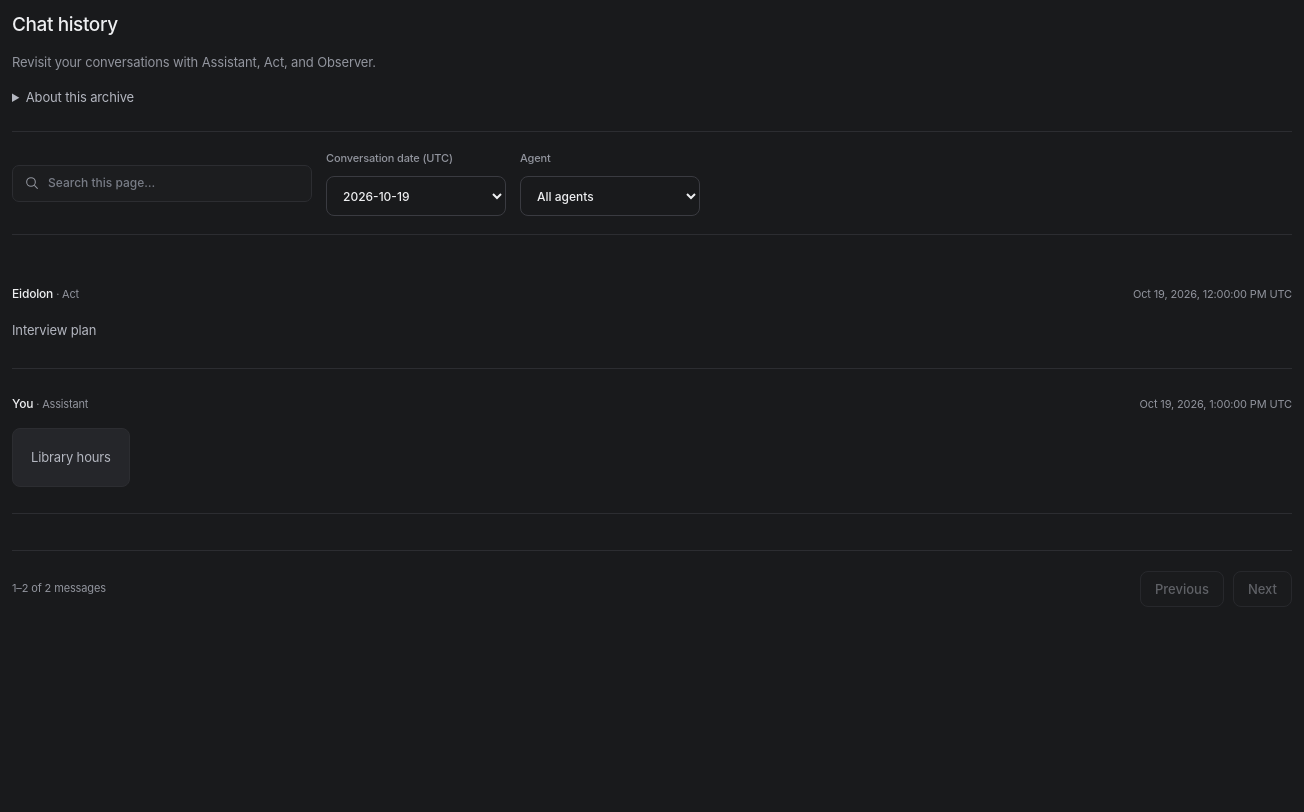
Test: memory detail browsing › clearly scopes transcript search to the selected page without changing date or agent
Expected: the text "Interview plan" is shown, [12,322,96,338]
Type "library" into the field named "Search messages on this page" at (174, 183), box [48,166,300,201]
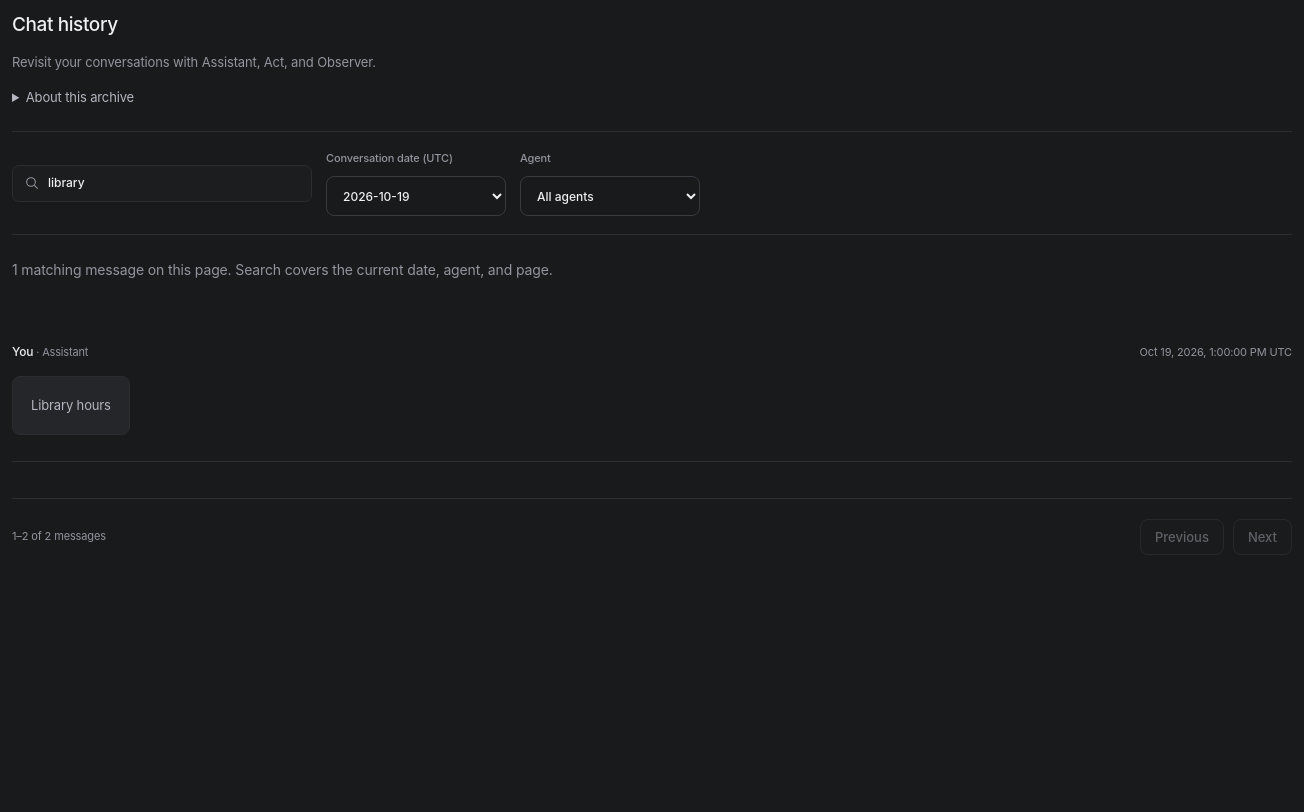
Expected: the text "Library hours" is shown, [12,376,130,435]
Expected: the text "Interview plan" is gone
Expected: the text "1 matching message on this page" is shown, [12,261,553,278]
